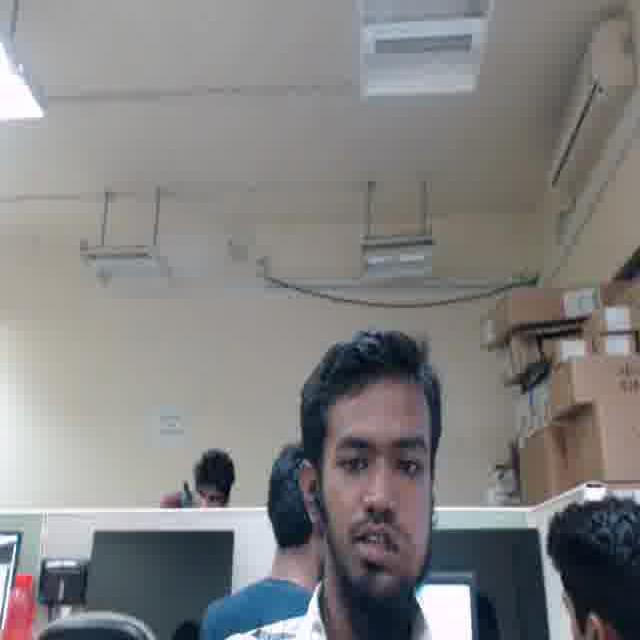Engaged: (320, 387, 437, 590)
